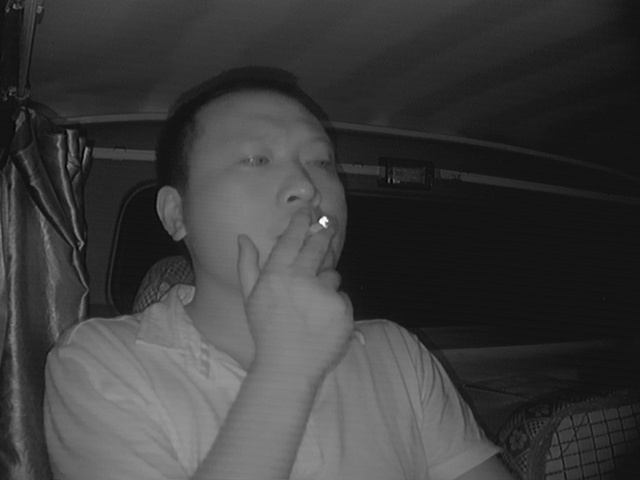hand: (246, 214, 353, 338)
